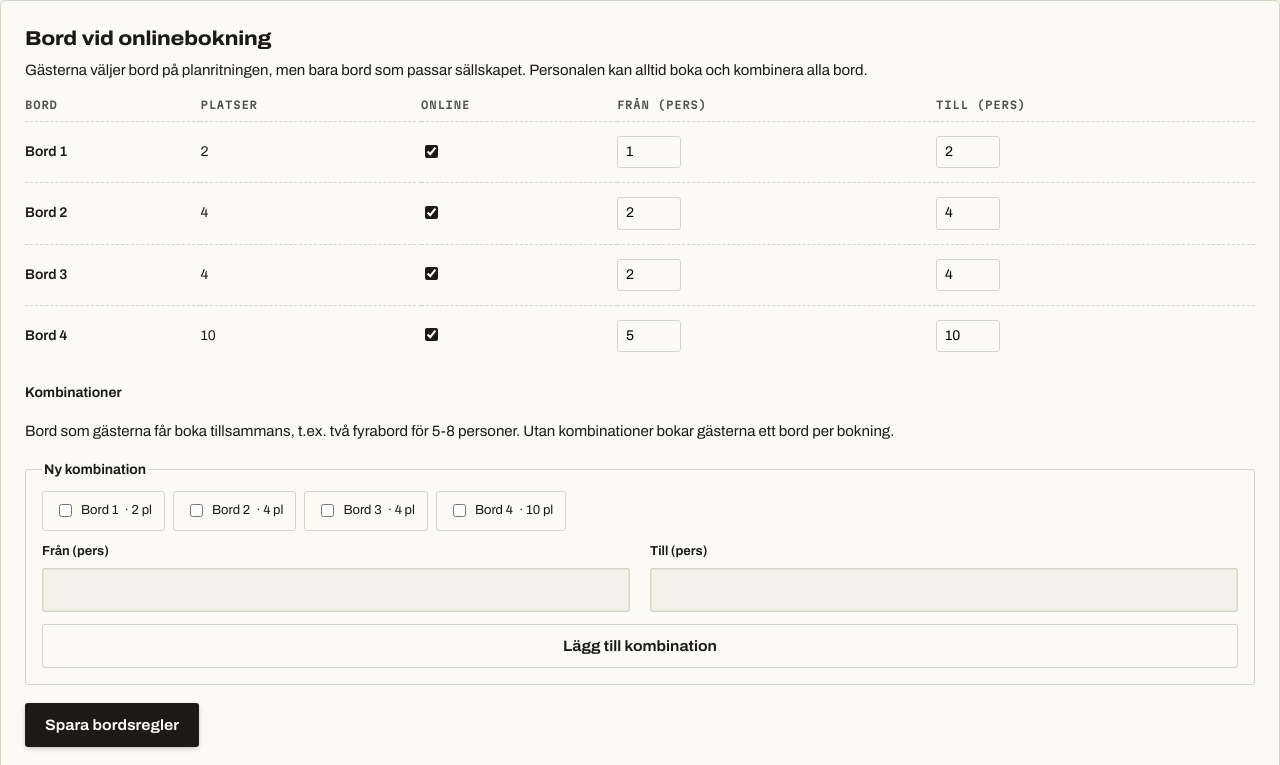
Test case: TableRulesCard › refuses a range larger than the table
The width and height of the screenshot is (1280, 765).
Expected: the cell "Bord 2" is shown, [25,183,200,244]
Replace the text in the field named "Bord 2 till antal personer" with "6" at (968, 213), box [936,197,1000,230]
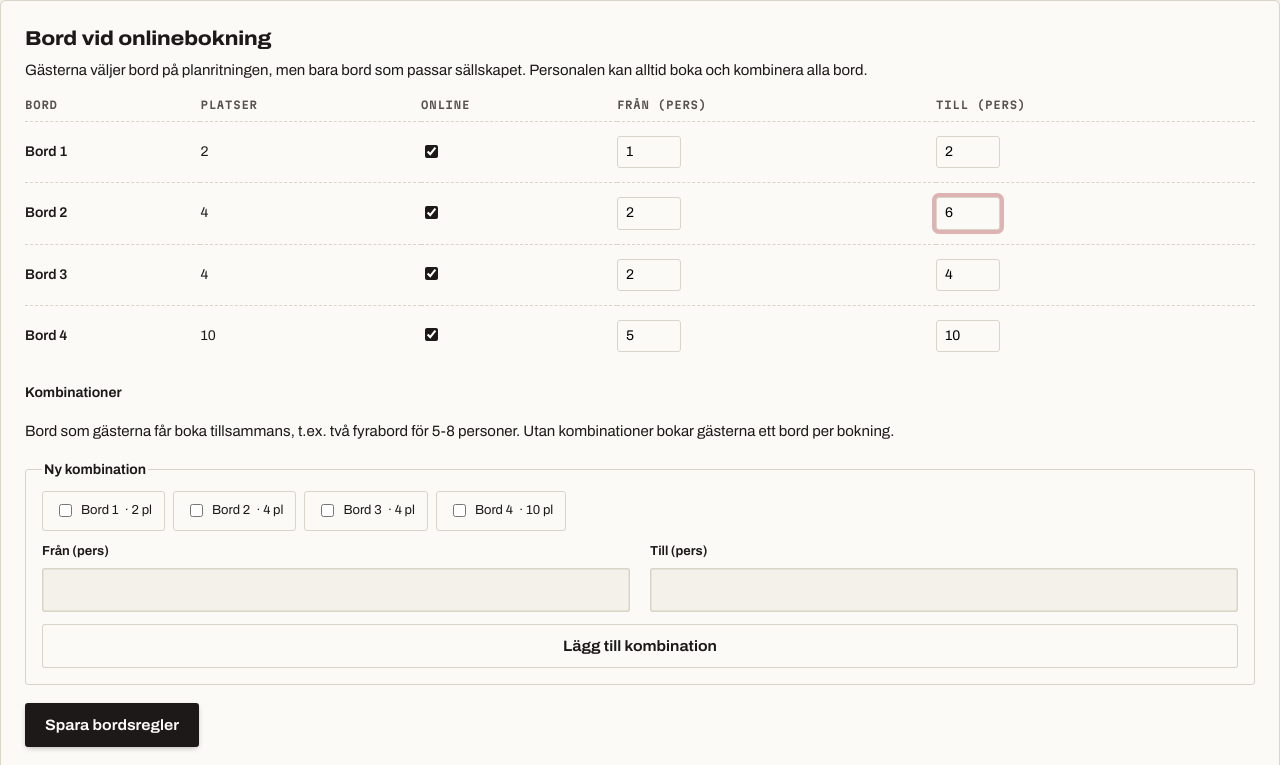
Click the button "Spara bordsregler".
click(112, 725)  # box [25,703,199,747]
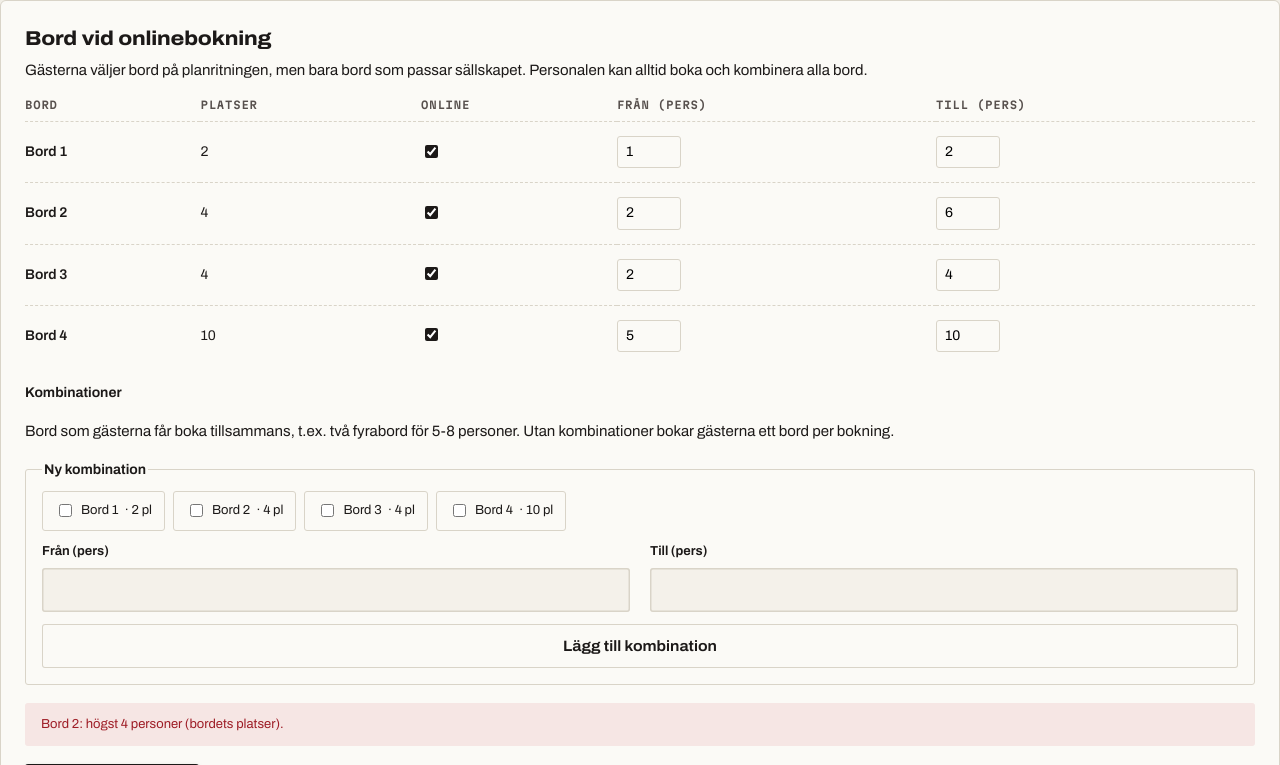
Now the message shows "Bord 2: högst 4 personer", box [41,717,284,731]
